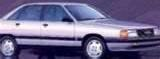front_view: (107, 26, 160, 51)
headlight: (120, 27, 139, 40)
side_glass: (12, 6, 71, 23)
